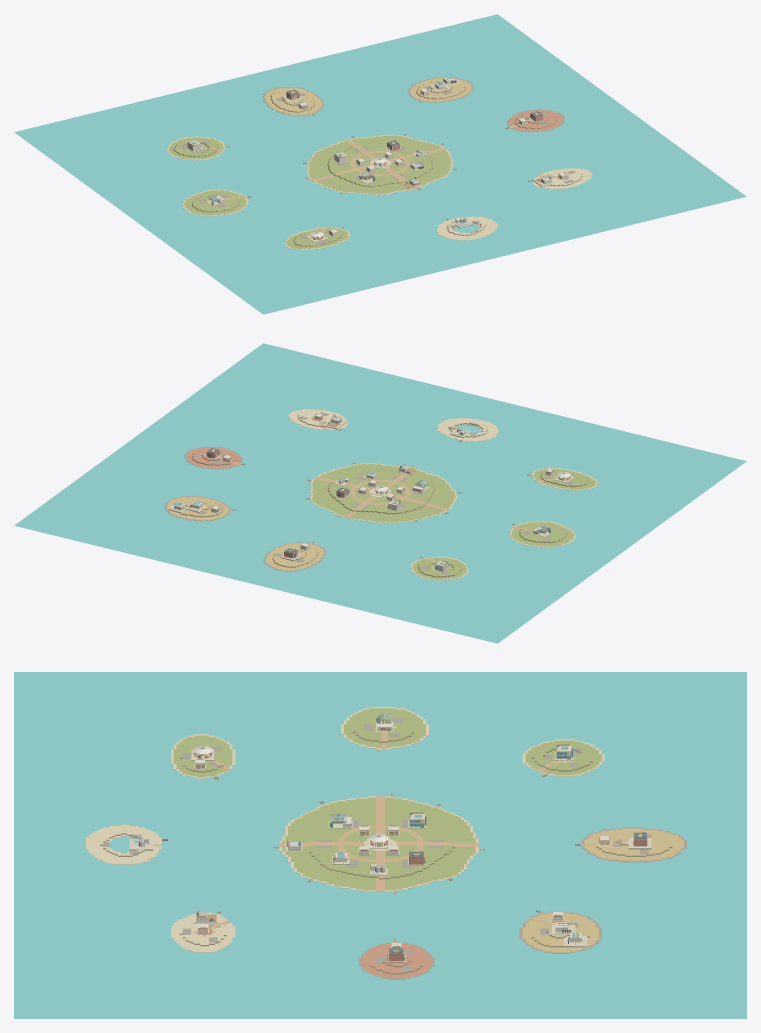
Rendered from sunwoven-reach-v1.glb.
3 renders of one model, top to bottom at view 1: azimuth 30°, elevation 25°; view 2: azimuth 150°, elevation 25°; view 3: azimuth 270°, elevation 25°, orthographic. The views are drawn at different scales.
Visible parts, largest first — view 1: MM_WORLD_GLOBAL_WATER, MM_WORLD_HEARTH_TERRAIN, MM_WORLD_GREEN_TERRAIN, MM_WORLD_KITE_TERRAIN, MM_WORLD_SUN_TERRAIN, MM_WORLD_PULSE_TERRAIN, MM_WORLD_LANTERN_TERRAIN, MM_WORLD_KILN_TERRAIN, MM_WORLD_TIDE_TERRAIN, MM_WORLD_COPPER_TERRAIN; view 2: MM_WORLD_GLOBAL_WATER, MM_WORLD_HEARTH_TERRAIN, MM_WORLD_GREEN_TERRAIN, MM_WORLD_KITE_TERRAIN, MM_WORLD_SUN_TERRAIN, MM_WORLD_PULSE_TERRAIN, MM_WORLD_LANTERN_TERRAIN, MM_WORLD_TIDE_TERRAIN, MM_WORLD_KILN_TERRAIN, MM_WORLD_COPPER_TERRAIN; view 3: MM_WORLD_GLOBAL_WATER, MM_WORLD_HEARTH_TERRAIN, MM_WORLD_GREEN_TERRAIN, MM_WORLD_KITE_TERRAIN, MM_WORLD_SUN_TERRAIN, MM_WORLD_PULSE_TERRAIN, MM_WORLD_KILN_TERRAIN, MM_WORLD_LANTERN_TERRAIN, MM_WORLD_TIDE_TERRAIN, MM_WORLD_COPPER_TERRAIN.
Part boxes in pixels (x1,y1,x2,y2): MM_WORLD_GLOBAL_WATER: (14,14,746,314); MM_WORLD_HEARTH_TERRAIN: (306,134,453,195); MM_WORLD_GREEN_TERRAIN: (181,189,248,216); MM_WORLD_KITE_TERRAIN: (262,86,324,116); MM_WORLD_SUN_TERRAIN: (407,76,474,102); MM_WORLD_PULSE_TERRAIN: (166,136,225,160); MM_WORLD_LANTERN_TERRAIN: (284,227,350,250); MM_WORLD_KILN_TERRAIN: (506,109,565,132); MM_WORLD_TIDE_TERRAIN: (436,216,498,240); MM_WORLD_COPPER_TERRAIN: (532,168,592,189); MM_WORLD_GLOBAL_WATER: (14,343,746,643); MM_WORLD_HEARTH_TERRAIN: (310,463,457,523); MM_WORLD_GREEN_TERRAIN: (509,520,576,547); MM_WORLD_KITE_TERRAIN: (263,542,326,571); MM_WORLD_SUN_TERRAIN: (164,495,230,521); MM_WORLD_PULSE_TERRAIN: (410,556,468,580); MM_WORLD_LANTERN_TERRAIN: (532,467,598,490); MM_WORLD_TIDE_TERRAIN: (436,417,499,441); MM_WORLD_KILN_TERRAIN: (184,446,243,469); MM_WORLD_COPPER_TERRAIN: (287,409,348,430); MM_WORLD_GLOBAL_WATER: (14,672,746,1018); MM_WORLD_HEARTH_TERRAIN: (279,796,478,891); MM_WORLD_GREEN_TERRAIN: (341,707,428,749); MM_WORLD_KITE_TERRAIN: (581,827,686,862); MM_WORLD_SUN_TERRAIN: (519,911,601,953); MM_WORLD_PULSE_TERRAIN: (522,739,604,776); MM_WORLD_KILN_TERRAIN: (358,941,434,979); MM_WORLD_LANTERN_TERRAIN: (171,734,235,779); MM_WORLD_TIDE_TERRAIN: (86,824,161,864); MM_WORLD_COPPER_TERRAIN: (171,912,235,952).
Bounding box in the file's own units: 560 × 9.74 × 500.
